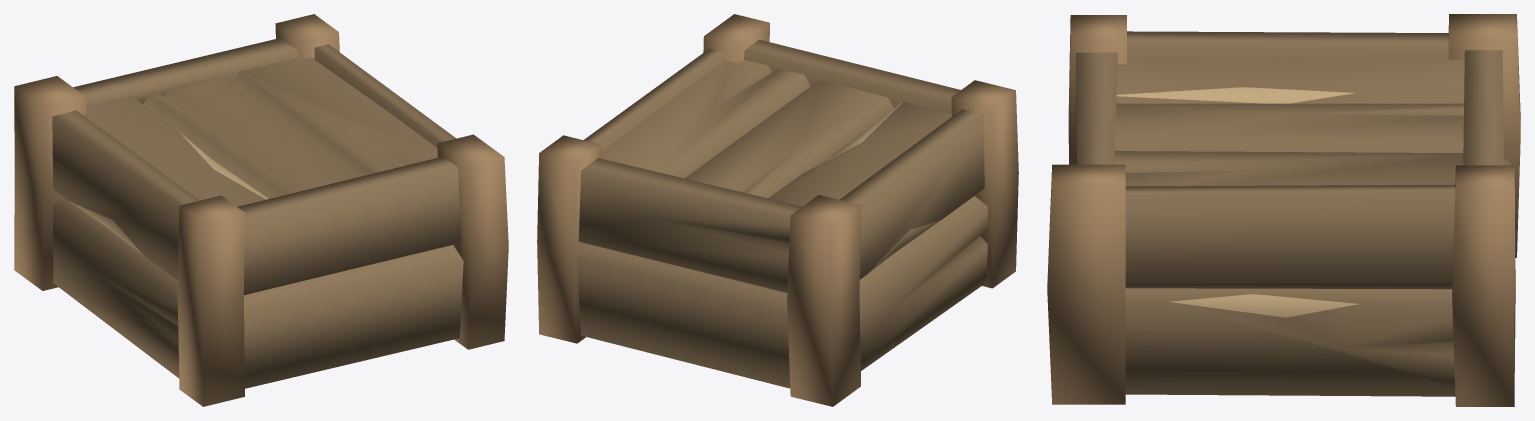
Rendered from rpgpp_ag_crate_02b.fbx.
3 views of the same model, side by side, from view 1: azimuth 30°, elevation 25°; view 2: azimuth 150°, elevation 25°; view 3: azimuth 270°, elevation 25° (orthographic). The views are drawn at different scales.
Visible parts, largest first — view 1: rpgpp_ag_crate_02b; view 2: rpgpp_ag_crate_02b; view 3: rpgpp_ag_crate_02b.
Part boxes in pixels (x1=…): rpgpp_ag_crate_02b: x1=14, y1=14, x2=508, y2=406; rpgpp_ag_crate_02b: x1=537, y1=14, x2=1018, y2=406; rpgpp_ag_crate_02b: x1=1047, y1=14, x2=1520, y2=406.
Size of the model in its own units: 0.6843 by 0.3984 by 0.78.
